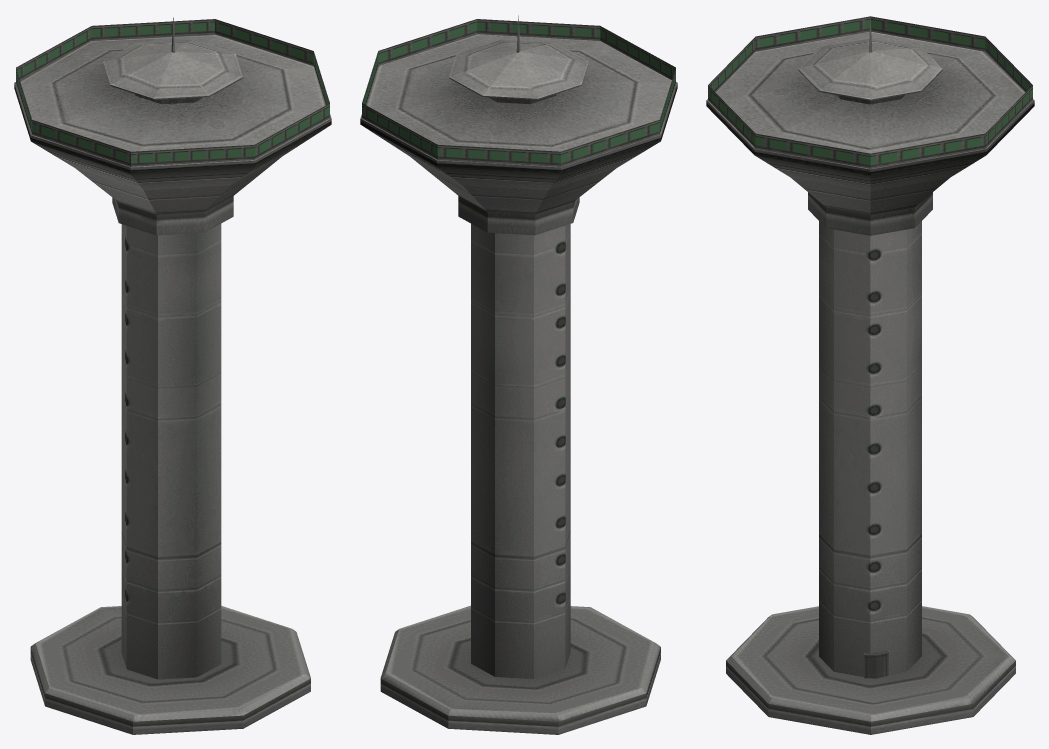
Rendered from tower_01.obj.
3 renders of one model, left to right at view 1: azimuth 30°, elevation 25°; view 2: azimuth 150°, elevation 25°; view 3: azimuth 270°, elevation 25°, orthographic.
Parts seen in each view (by area): view 1: Cylinder027; view 2: Cylinder027; view 3: Cylinder027.
Boxes of the visible parts, x1,y1,x2,y2 form: Cylinder027: (14, 17, 331, 734); Cylinder027: (360, 15, 677, 734); Cylinder027: (706, 16, 1034, 734).
Size of the model in its own units: 31.71 by 70.47 by 31.71.
